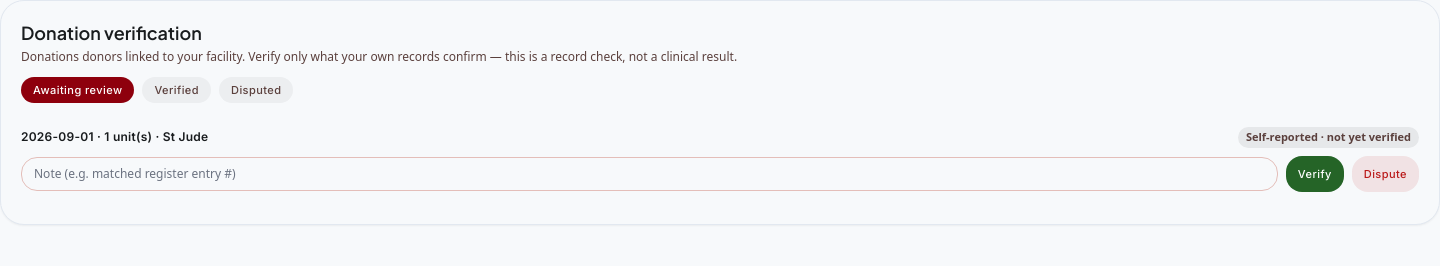
Test: DonationReviewQueue › surfaces a backend authorization error instead of pretending success
Expected: the list item with test id "donation-review-row" is shown, [21,115,1419,204]
Click the button "Dispute". click: (1385, 174)
box: [1352,156,1419,192]
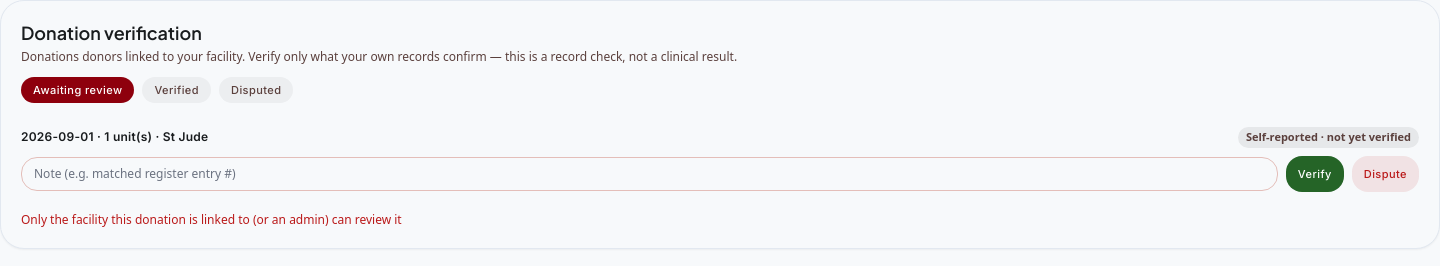
Expected: the message shows "linked to", [21,210,402,228]
